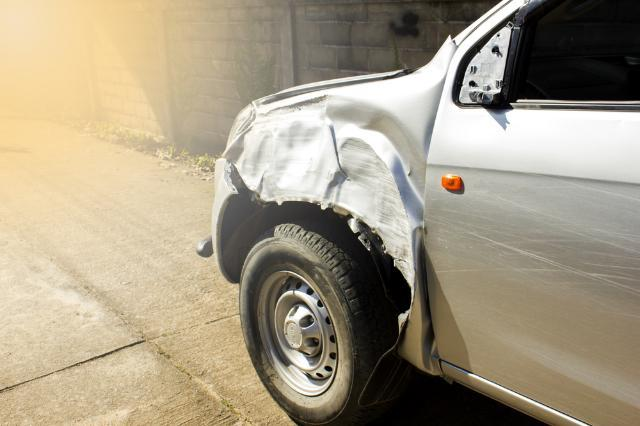dent: (229, 96, 427, 275)
scratch: (430, 180, 640, 310)
